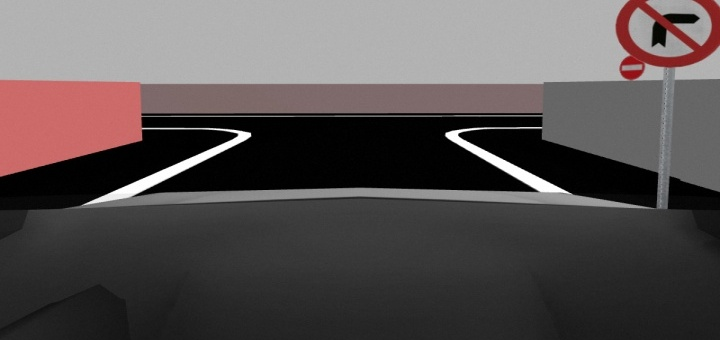saga_donulmez: (613, 1, 720, 74)
